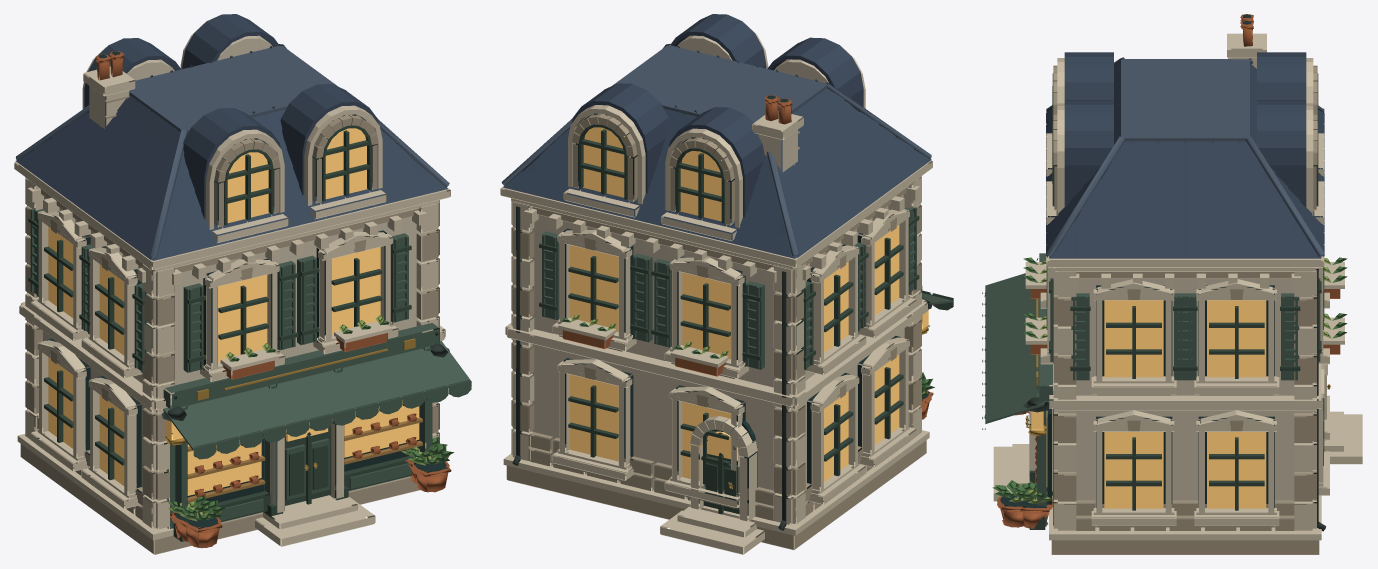
The picture shows the model from 3 angles, left to right: view 1: azimuth 30°, elevation 25°; view 2: azimuth 150°, elevation 25°; view 3: azimuth 270°, elevation 25°; orthographic projection.
Visible parts, largest first — view 1: classic_shop_2_geometry; view 2: classic_shop_2_geometry; view 3: classic_shop_2_geometry.
Boxes of the visible parts, box(x1,y1,x2,y2) form: classic_shop_2_geometry: box(14, 14, 471, 554); classic_shop_2_geometry: box(500, 14, 953, 554); classic_shop_2_geometry: box(982, 14, 1362, 554).
Size of the model in its own units: 0.9057 by 1.16 by 0.957.
